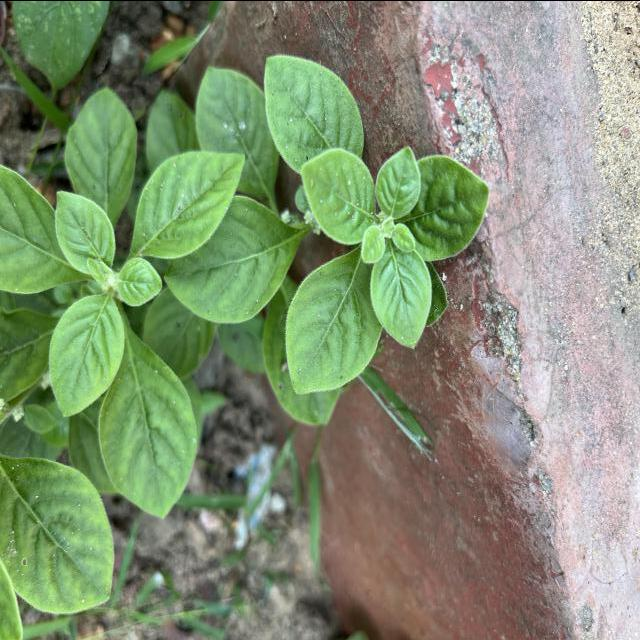Aerva lanata: (162, 190, 310, 326), (282, 242, 386, 396), (262, 50, 366, 176), (402, 151, 494, 265), (46, 290, 126, 420), (367, 234, 435, 352)
